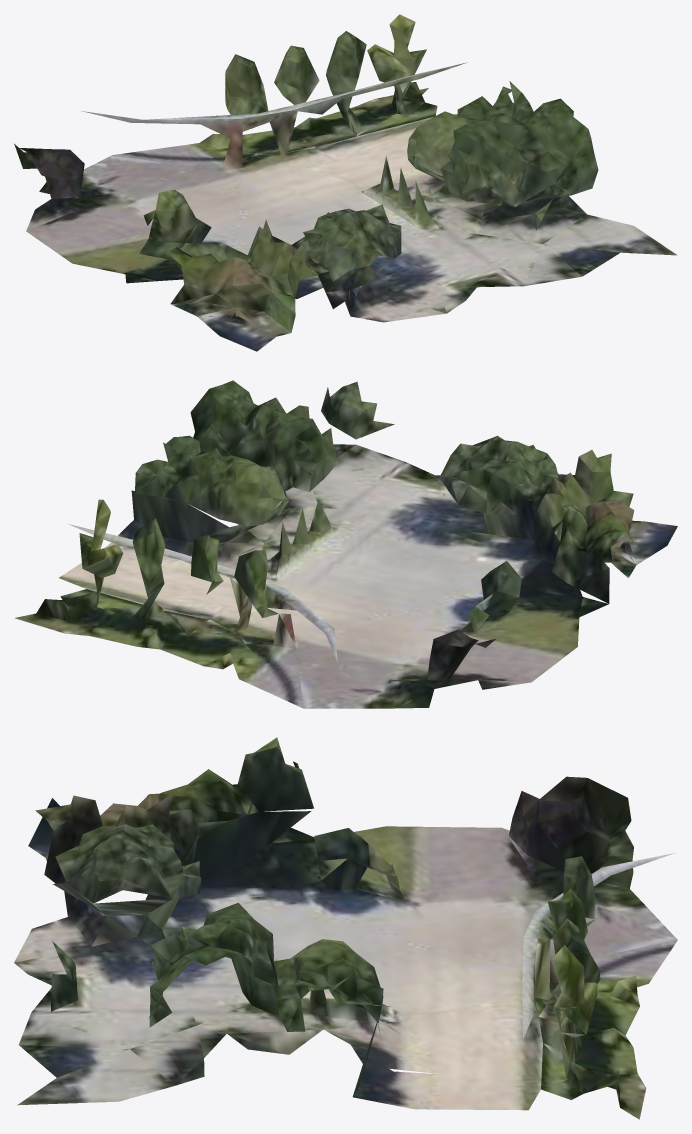
Rendered from Tile_+005_+007_L16_0.glb.
The picture shows the model from 3 angles, top to bottom: view 1: azimuth 30°, elevation 25°; view 2: azimuth 150°, elevation 25°; view 3: azimuth 270°, elevation 25°; orthographic projection. The views are drawn at different scales.
Parts seen in each view (by area): view 1: rtc; view 2: rtc; view 3: rtc.
Part boxes in pixels (<box>): rtc: <box>14,14,677,351</box>; rtc: <box>14,380,677,708</box>; rtc: <box>14,737,677,1119</box>.
Bounding box in the file's own units: 60.32 × 15.24 × 59.83.
1 material, 1 textured.
